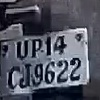1: (42, 34, 54, 58)
2: (68, 56, 86, 85), (57, 60, 69, 85)
4: (53, 35, 67, 57)
6: (44, 61, 58, 84)
9: (32, 62, 46, 87)
C: (6, 63, 20, 89)
J: (20, 63, 32, 89)
P: (30, 36, 42, 60)
U: (14, 40, 31, 61)
